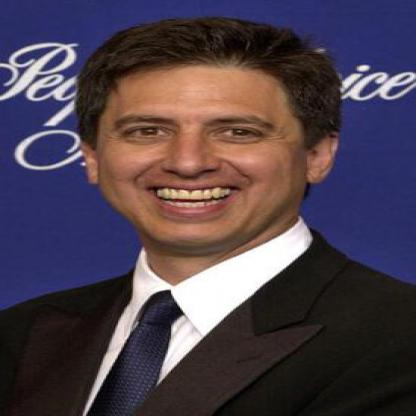face: (95, 27, 314, 251)
